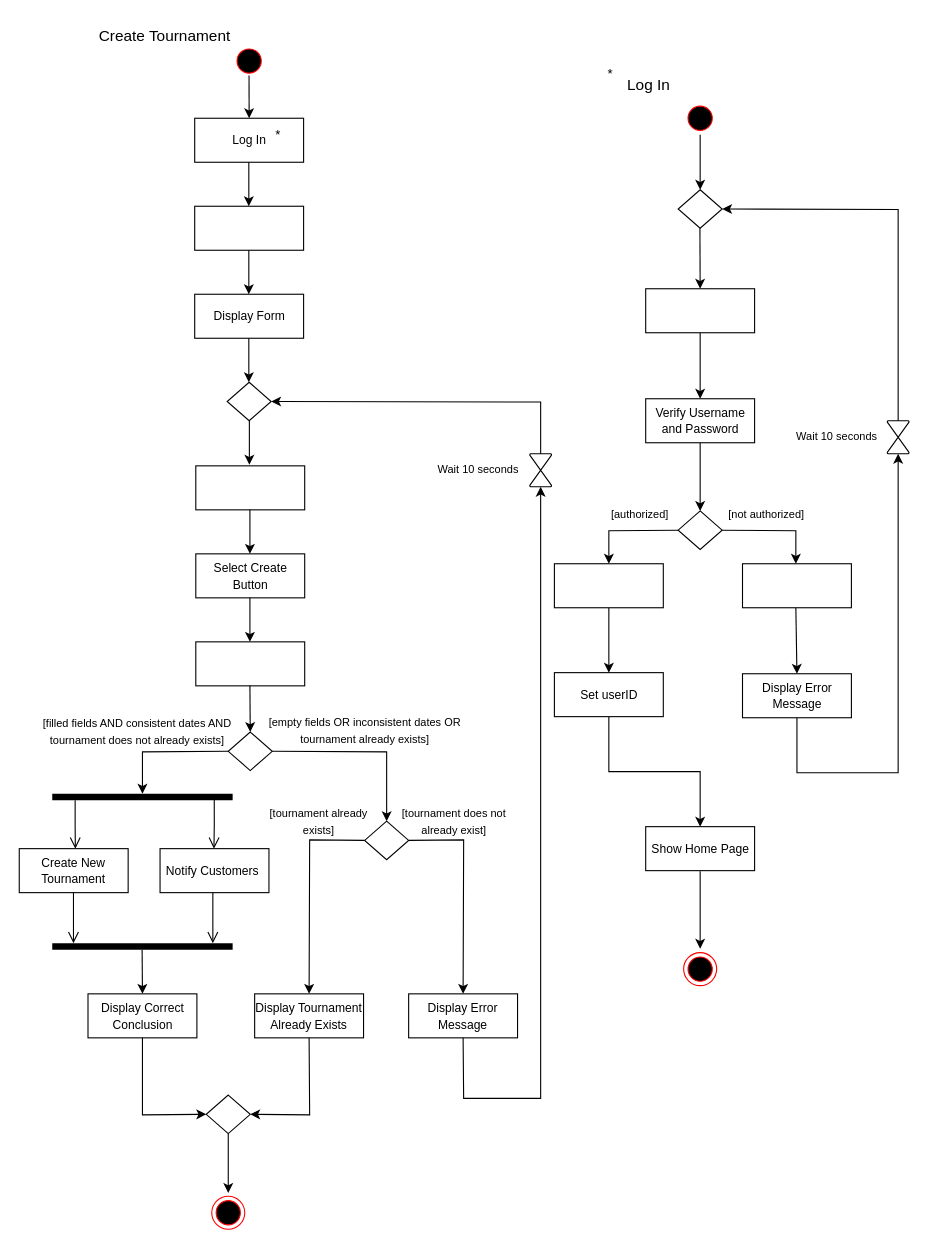
Image size: 928x1249. Some labels were removed from this diagram. Each missing label, with the box of its shape:
Enter Tournament Details: (195, 465, 305, 510)
Enter Username and Password: (645, 288, 755, 333)
Reject Log In: (741, 563, 851, 608)
Select Create Tournament: (194, 205, 304, 250)
Update View: (553, 563, 663, 608)
Verify Tournament Details: (195, 641, 305, 686)
